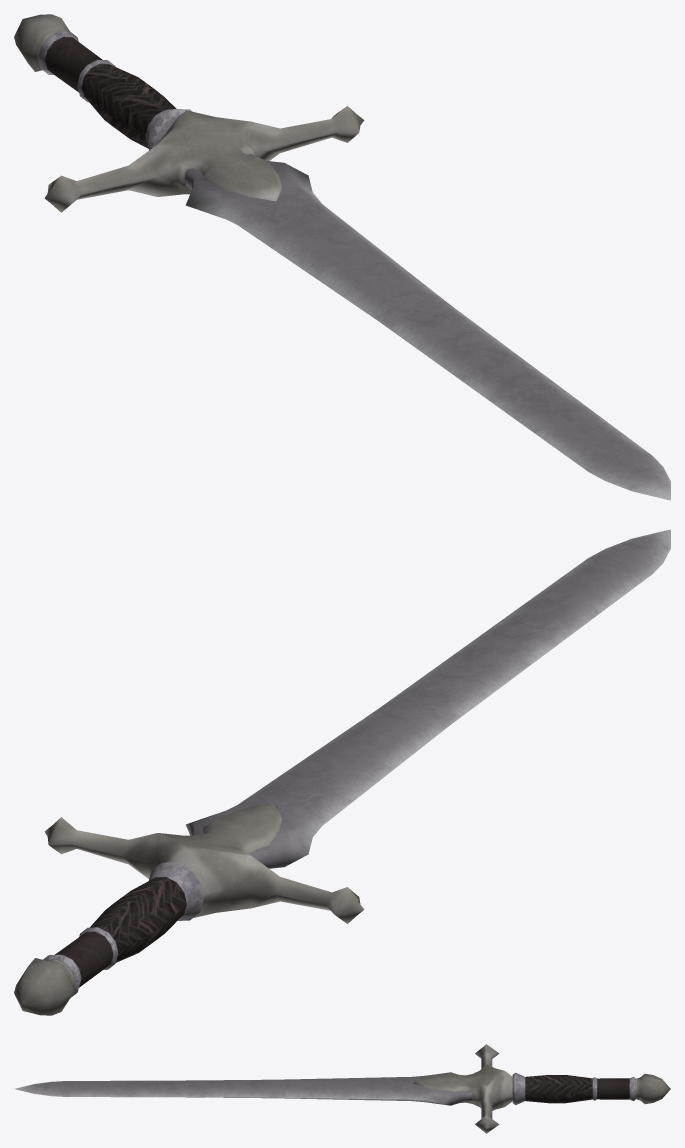
File: Warrior_Lv3_Sword.fbx
The picture shows the model from 3 angles, top to bottom: view 1: azimuth 30°, elevation 25°; view 2: azimuth 150°, elevation 25°; view 3: azimuth 270°, elevation 25°; orthographic projection. The views are drawn at different scales.
Parts seen in each view (by area): view 1: Sword_005; view 2: Sword_005; view 3: Sword_005.
Boxes of the visible parts, x1,y1,x2,y2 form: Sword_005: [14, 14, 670, 500]; Sword_005: [14, 529, 670, 1015]; Sword_005: [15, 1044, 670, 1133].
Bounding box in the file's own units: 21.47 × 4.58 × 75.36.
